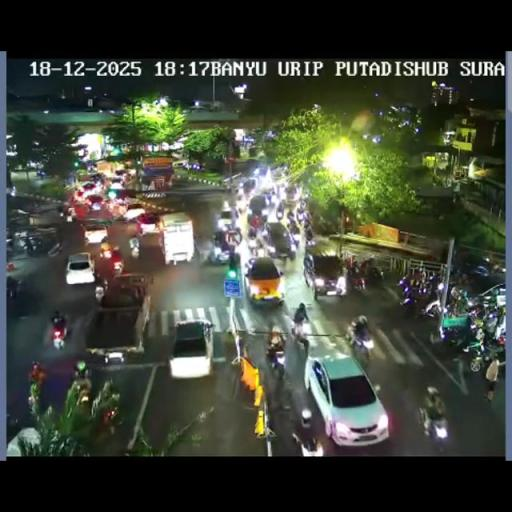Car: (305, 355, 388, 446), (84, 284, 153, 363), (167, 318, 214, 378), (242, 256, 284, 306), (154, 213, 194, 265), (303, 251, 346, 298), (65, 252, 95, 286), (98, 243, 124, 276), (248, 194, 271, 222), (280, 180, 303, 206), (82, 222, 106, 245), (122, 202, 148, 222), (108, 189, 134, 207), (84, 194, 106, 212), (216, 209, 234, 230), (239, 178, 257, 196)
Motorcycle: (462, 327, 504, 373), (399, 272, 439, 318), (418, 398, 450, 446), (291, 422, 321, 456), (347, 327, 373, 364), (94, 403, 118, 439), (265, 338, 286, 376), (440, 292, 470, 318), (70, 378, 92, 410), (290, 320, 310, 355), (207, 237, 231, 264), (346, 266, 368, 292), (27, 380, 43, 414), (4, 232, 26, 255), (364, 263, 385, 287), (466, 302, 490, 323), (51, 321, 68, 350), (492, 307, 506, 342), (22, 234, 44, 256), (6, 409, 22, 438), (6, 275, 22, 303), (72, 359, 90, 380), (286, 228, 300, 254), (46, 240, 64, 258), (295, 204, 310, 225), (470, 263, 490, 277), (488, 261, 506, 276), (249, 238, 262, 258), (304, 222, 314, 243), (94, 284, 105, 302), (236, 198, 248, 214), (275, 200, 285, 219), (286, 210, 296, 227), (344, 255, 355, 270), (248, 224, 258, 239), (57, 204, 66, 220), (227, 180, 237, 194), (130, 246, 140, 259), (66, 208, 74, 222), (136, 223, 143, 237)
